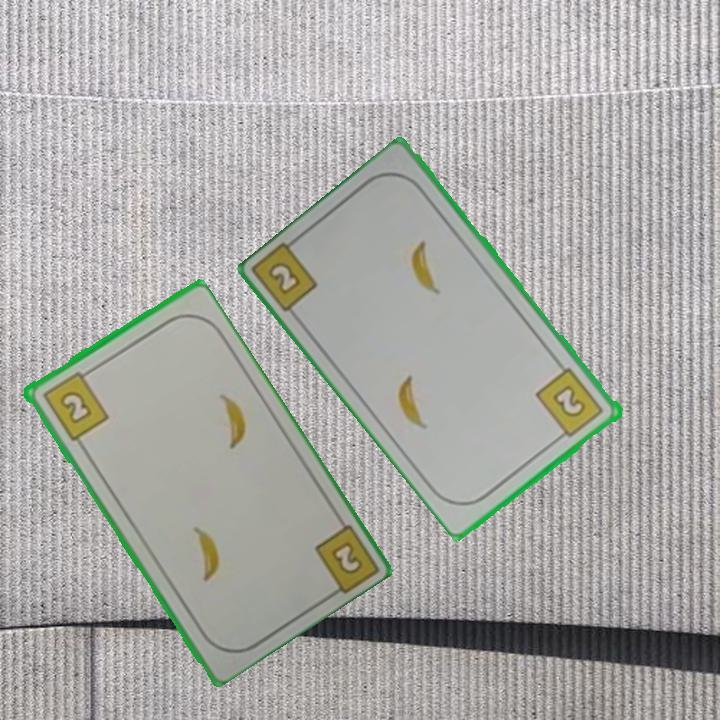2b: (532, 364, 607, 444), (38, 366, 111, 444), (265, 258, 305, 298), (327, 537, 366, 578)
